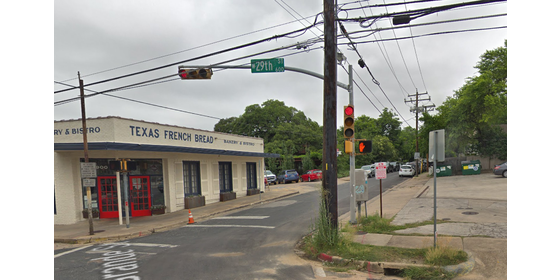street name sign: (250, 58, 288, 75)
